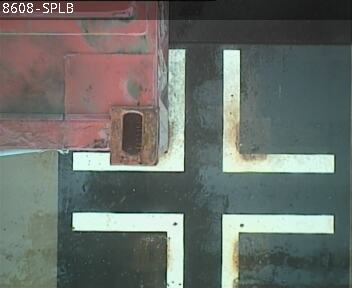groundmarker_1: (71, 48, 335, 172), (71, 211, 335, 288)
